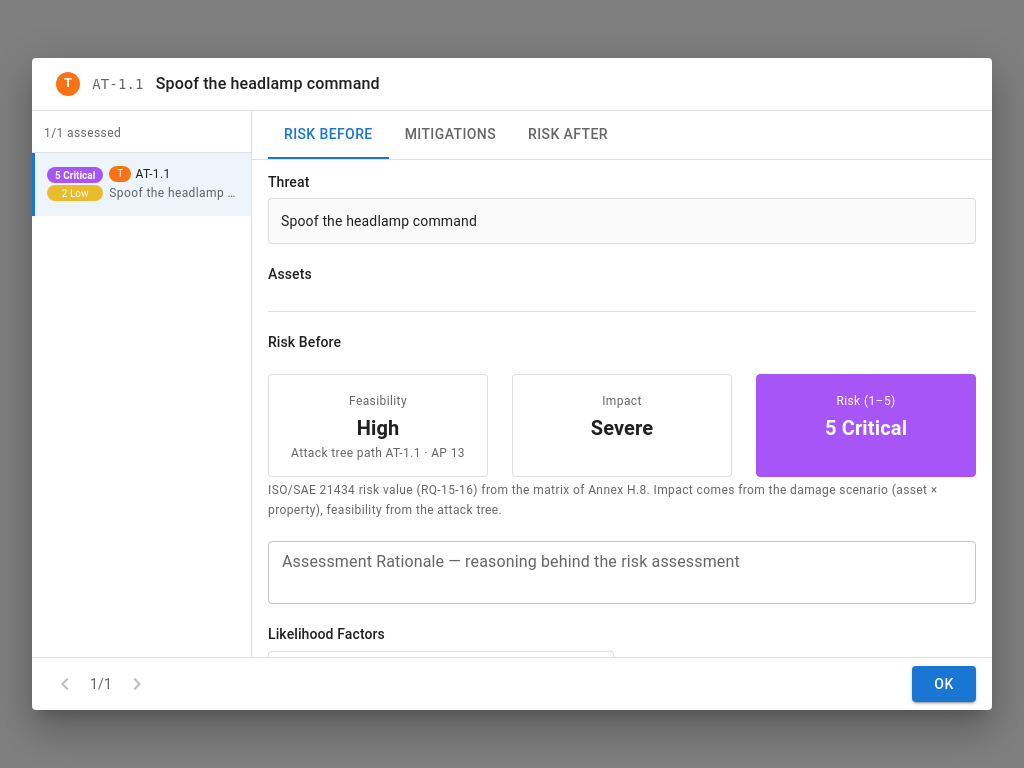
it: risk dialog — ISO Risk Before / After › after: the impact is the damage scenario's, read-only — no empty impact selects
Step 1. Click the tab "Risk After" → (568, 135), box [512, 111, 624, 159]
(page scrolled)
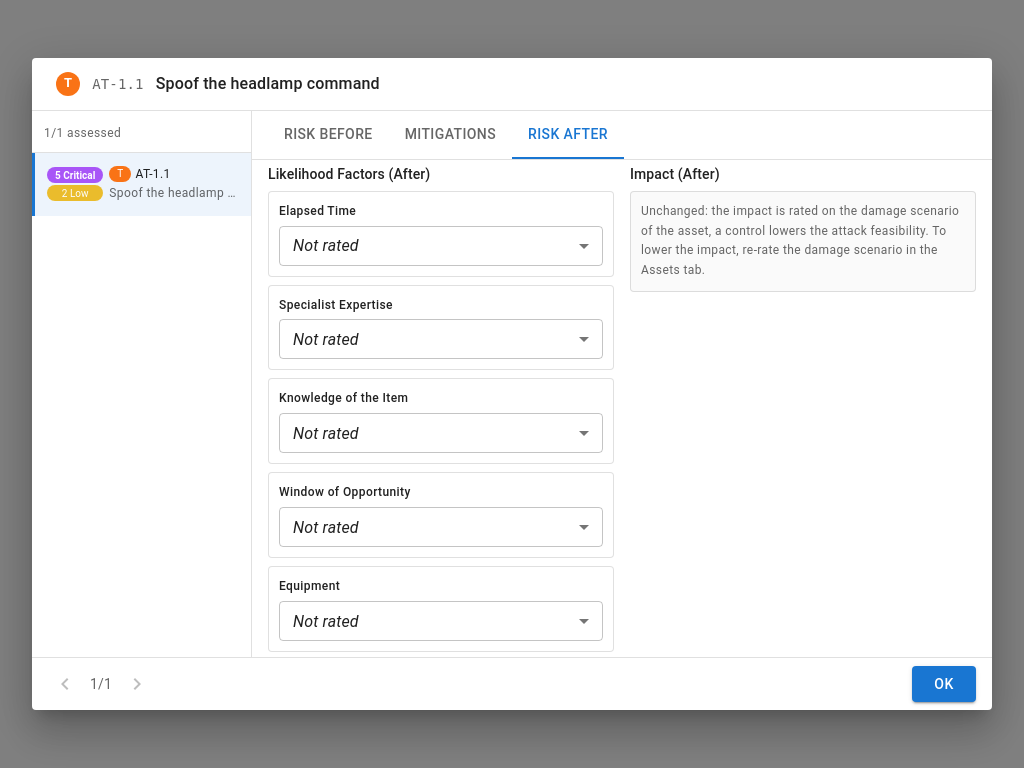
Result: the element with test id "iso-impact-after-note" shows "re-rate the damage scenario" at [641, 204, 959, 277]
